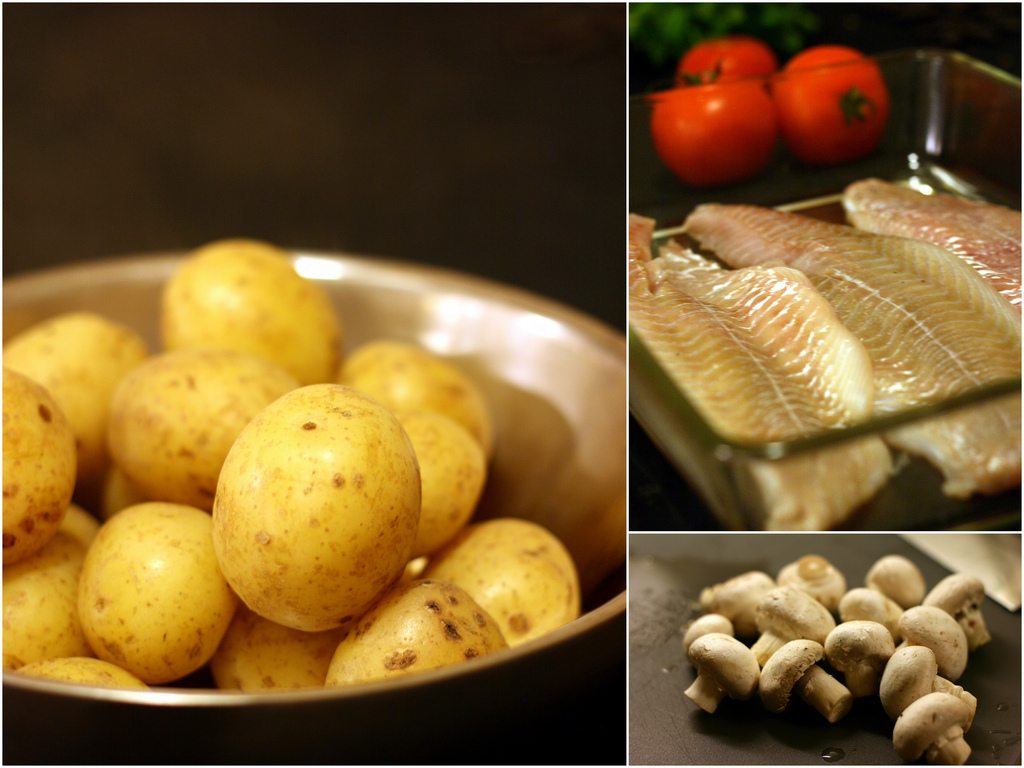boiled potatoes: (227, 387, 420, 631), (127, 355, 292, 507), (88, 499, 235, 665), (169, 240, 323, 390), (1, 354, 85, 579)
